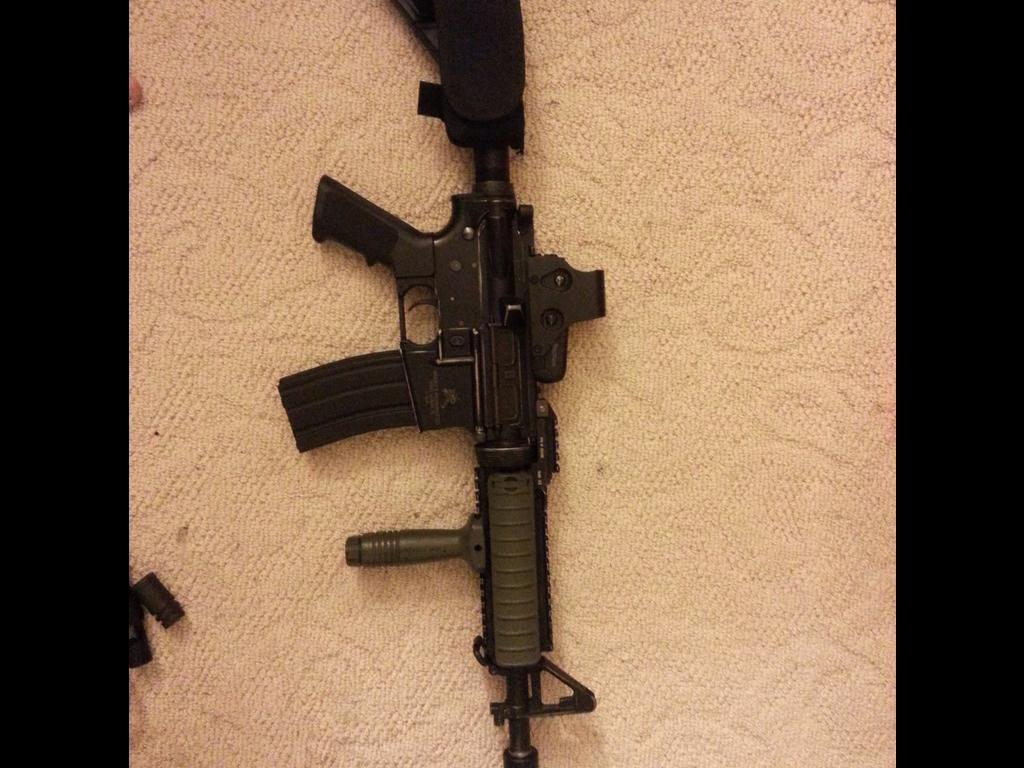gun: (259, 0, 627, 768)
